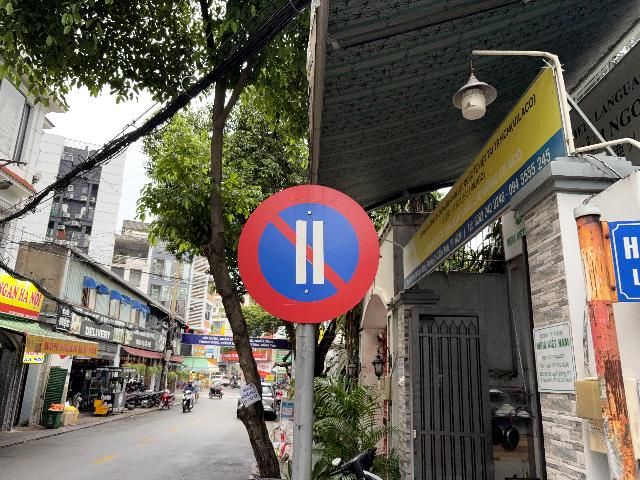cam-do-xe-ngay-chan: (238, 183, 379, 324)
